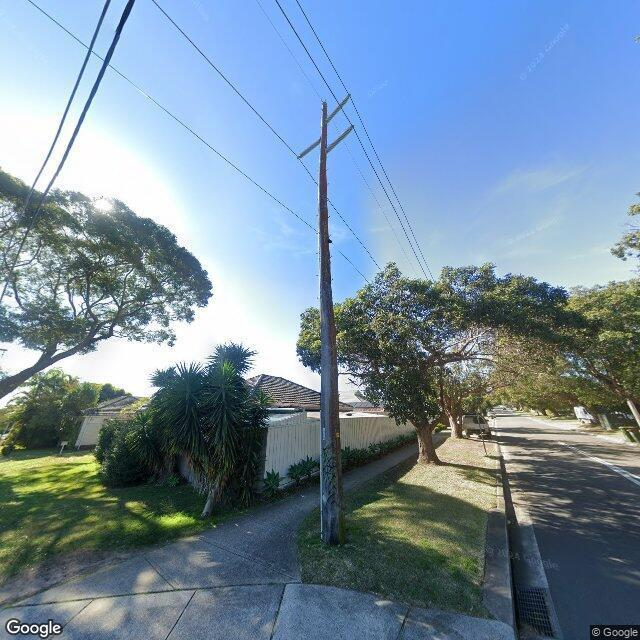HV-transmission: (296, 93, 353, 160)
timber-pole: (318, 103, 339, 548)
